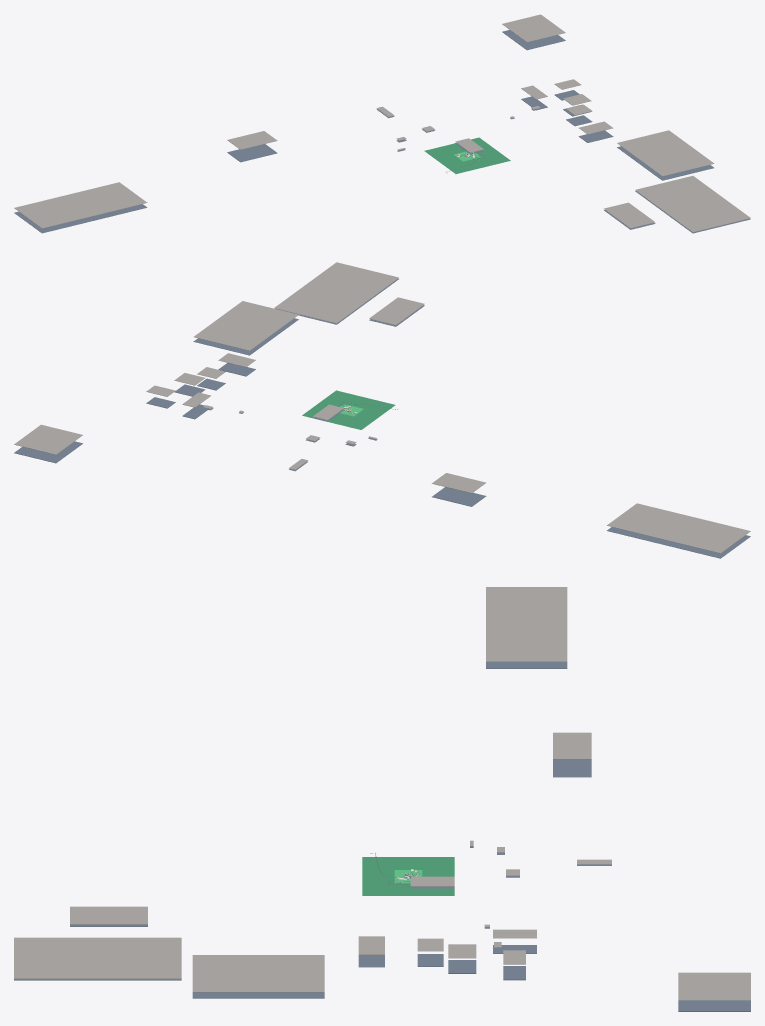
The model's file is sit_campus.glb.
3 renders of one model, top to bottom at view 1: azimuth 30°, elevation 25°; view 2: azimuth 150°, elevation 25°; view 3: azimuth 270°, elevation 25°, orthographic. The views are drawn at different scales.
Parts seen in each view (by area): view 1: Bldg_campus-maintenance_Roof, Bldg_workshop-civil-mech_Roof, Bldg_admin-annex_Roof, Campus_Regional_Ground, Bldg_first-year-block_Roof, Bldg_workshop-civil-mech_Plinth, Bldg_electrical-substation_Roof, Bldg_management-block_Roof, Bldg_management-block_Plinth, Bldg_first-year-block_Plinth, Bldg_admin-annex_Plinth; view 2: Bldg_campus-maintenance_Roof, Bldg_workshop-civil-mech_Roof, Bldg_admin-annex_Roof, Campus_Regional_Ground, Bldg_first-year-block_Roof, Bldg_workshop-civil-mech_Plinth, Bldg_electrical-substation_Roof, Bldg_management-block_Roof, Bldg_management-block_Plinth, Bldg_first-year-block_Plinth, Bldg_admin-annex_Plinth; view 3: Bldg_campus-maintenance_Roof, Bldg_workshop-civil-mech_Roof, Bldg_admin-annex_Roof, Campus_Regional_Ground, Bldg_first-year-block_Roof, Bldg_electrical-substation_Roof, Bldg_management-block_Roof, Bldg_admin-annex_Plinth, Bldg_first-year-block_Plinth, Bldg_management-block_Plinth.
Part boxes in pixels (x1,y1,x2,y2): Bldg_campus-maintenance_Roof: (635, 176, 750, 232); Bldg_workshop-civil-mech_Roof: (14, 182, 147, 228); Bldg_admin-annex_Roof: (617, 130, 714, 176); Campus_Regional_Ground: (424, 137, 510, 173); Bldg_first-year-block_Roof: (502, 14, 565, 42); Bldg_workshop-civil-mech_Plinth: (14, 204, 146, 233); Bldg_electrical-substation_Roof: (604, 202, 654, 228); Bldg_management-block_Roof: (227, 131, 277, 149); Bldg_management-block_Plinth: (227, 144, 277, 162); Bldg_first-year-block_Plinth: (502, 30, 565, 50); Bldg_admin-annex_Plinth: (617, 146, 713, 180); Bldg_campus-maintenance_Roof: (274, 262, 398, 323); Bldg_workshop-civil-mech_Roof: (607, 503, 750, 553); Bldg_admin-annex_Roof: (194, 301, 298, 350); Campus_Regional_Ground: (302, 390, 395, 429); Bldg_first-year-block_Roof: (14, 424, 82, 454); Bldg_workshop-civil-mech_Plinth: (607, 527, 750, 558); Bldg_electrical-substation_Roof: (369, 297, 424, 324); Bldg_management-block_Roof: (432, 473, 485, 493); Bldg_management-block_Plinth: (432, 487, 486, 506); Bldg_first-year-block_Plinth: (14, 441, 82, 463); Bldg_admin-annex_Plinth: (193, 318, 298, 355); Bldg_campus-maintenance_Roof: (14, 937, 181, 978); Bldg_workshop-civil-mech_Roof: (486, 587, 567, 661); Bldg_admin-annex_Roof: (192, 955, 324, 992); Campus_Regional_Ground: (362, 857, 454, 895); Bldg_first-year-block_Roof: (678, 972, 750, 1000); Bldg_electrical-substation_Roof: (70, 906, 147, 924); Bldg_management-block_Roof: (553, 732, 591, 759); Bldg_admin-annex_Plinth: (192, 992, 324, 998); Bldg_first-year-block_Plinth: (678, 1000, 750, 1011); Bldg_management-block_Plinth: (553, 759, 591, 777).
Bounding box in the file's own units: 10704 × 222 × 7985.
